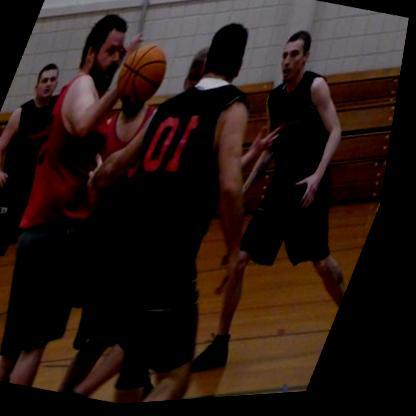basketball: (108, 38, 180, 117)
